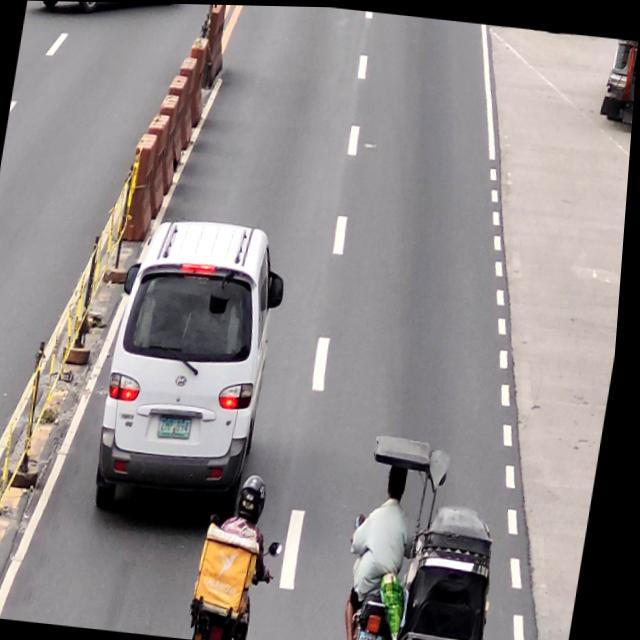Car: (92, 211, 299, 521)
License-Plate: (162, 411, 200, 439), (365, 628, 394, 640)
Tricycle: (347, 428, 527, 640)
